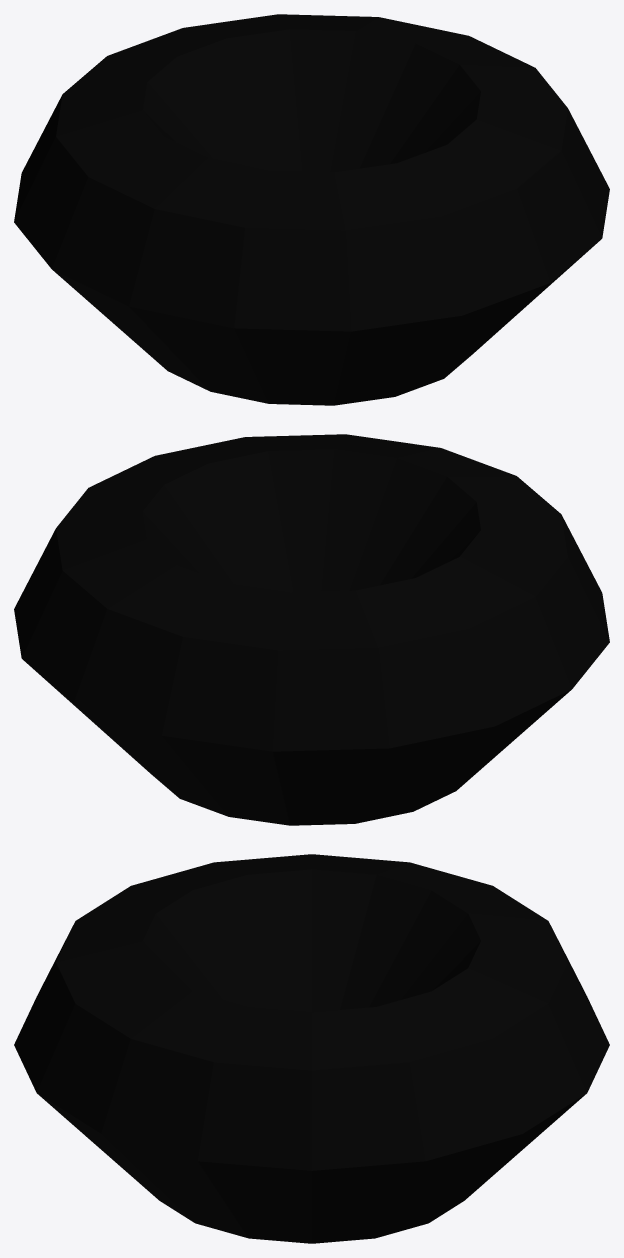
The model's file is DeadSpider.fbx.
The picture shows the model from 3 angles, top to bottom: view 1: azimuth 30°, elevation 25°; view 2: azimuth 150°, elevation 25°; view 3: azimuth 270°, elevation 25°; orthographic projection.
Parts seen in each view (by area): view 1: Sphere; view 2: Sphere; view 3: Sphere.
Part boxes in pixels (x1=…): Sphere: x1=14, y1=14, x2=609, y2=405; Sphere: x1=14, y1=434, x2=609, y2=825; Sphere: x1=14, y1=854, x2=609, y2=1243.
Bounding box in the file's own units: 1.38 × 0.6723 × 1.38.
